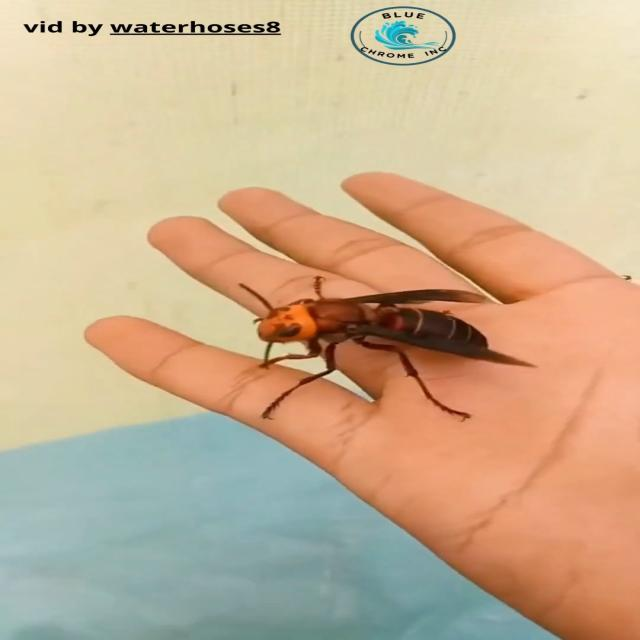Hornets: (241, 275, 539, 423)
